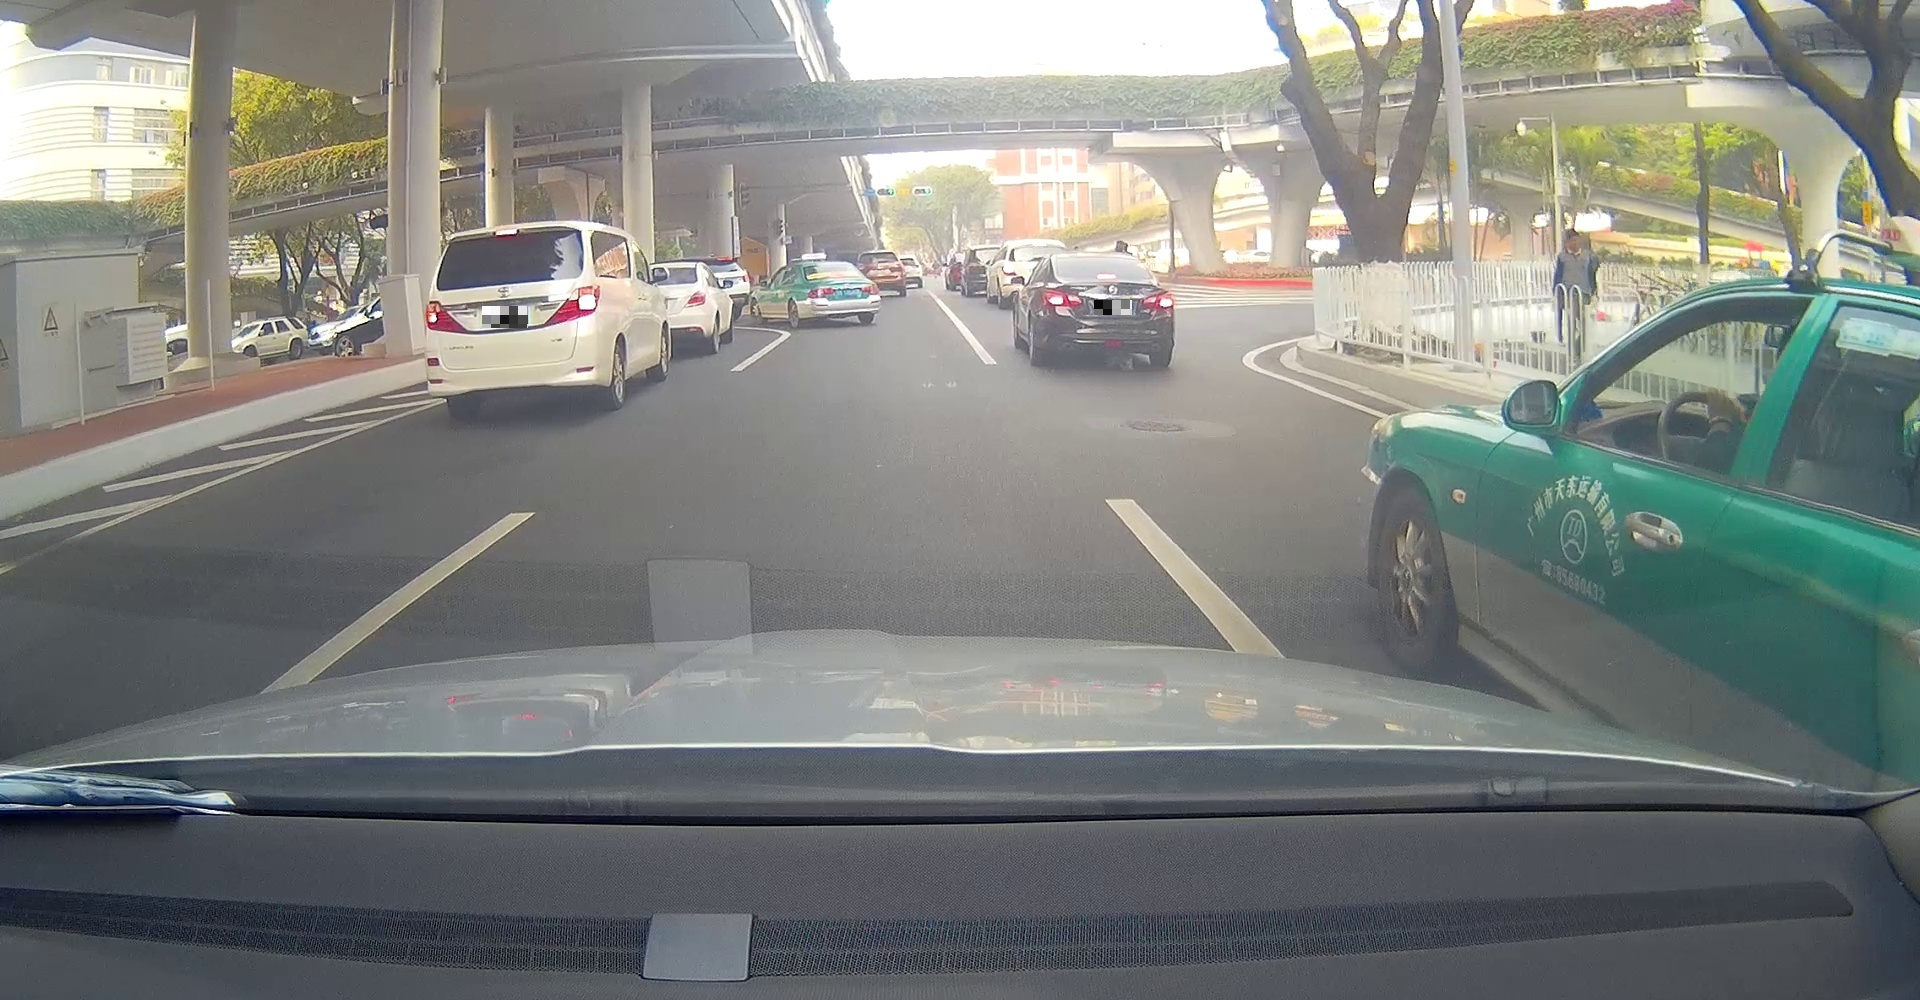L_light: (425, 301, 467, 332), (1043, 289, 1082, 307), (808, 287, 836, 299)
R_light: (543, 286, 601, 326), (1140, 291, 1173, 310), (860, 284, 879, 294)
T_light: (494, 228, 518, 236), (1096, 273, 1116, 280), (825, 263, 837, 265)
day-brake: (424, 220, 603, 418), (1040, 253, 1175, 367)
day-no: (800, 261, 883, 327)
plate_1: (483, 306, 528, 327)
plate_2: (1095, 299, 1131, 315)
